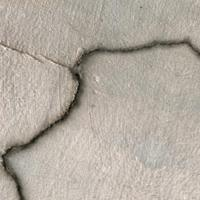crack: (0, 24, 199, 199)
